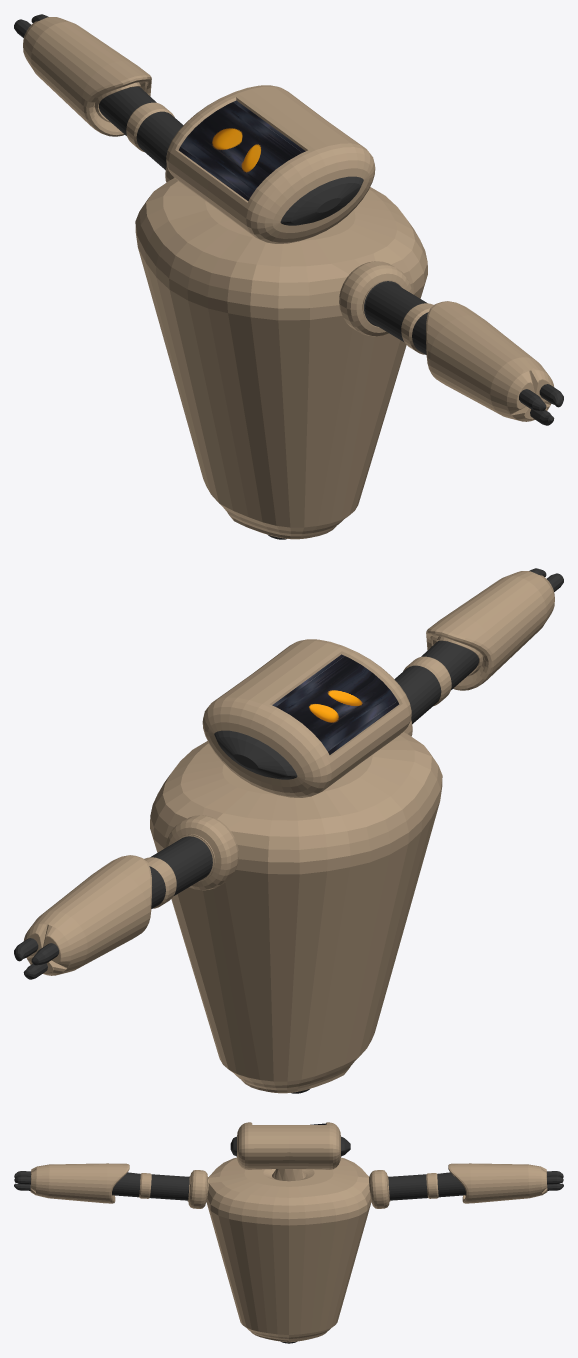
File: Uçan robot.fbx
3 views of the same model, one above another, from view 1: azimuth 30°, elevation 25°; view 2: azimuth 150°, elevation 25°; view 3: azimuth 270°, elevation 25° (orthographic). The views are drawn at different scales.
Visible parts, largest first — view 1: Cylinder.002; view 2: Cylinder.002; view 3: Cylinder.002.
Part boxes in pixels (x1,y1,x2,y2): Cylinder.002: (14, 14, 563, 539); Cylinder.002: (14, 568, 563, 1093); Cylinder.002: (14, 1122, 563, 1343).
Size of the model in its own units: 41.24 by 71.83 by 166.
